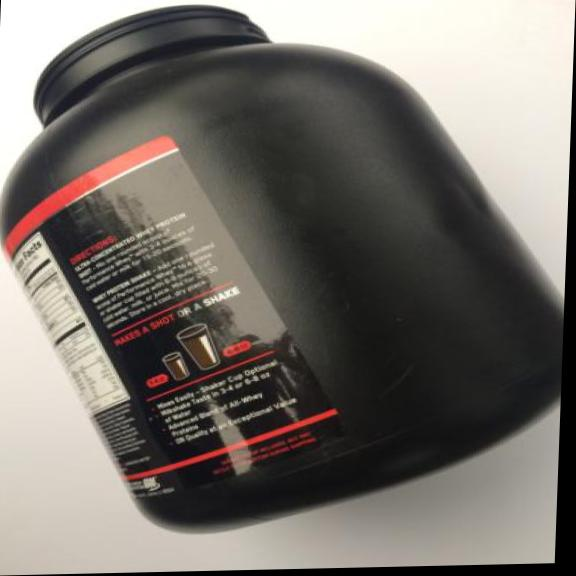Plastik: (0, 0, 576, 546)
